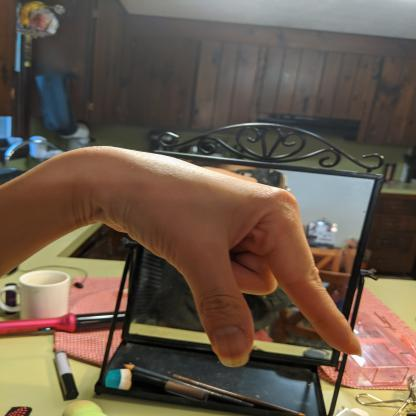Q: (92, 142, 367, 370)
